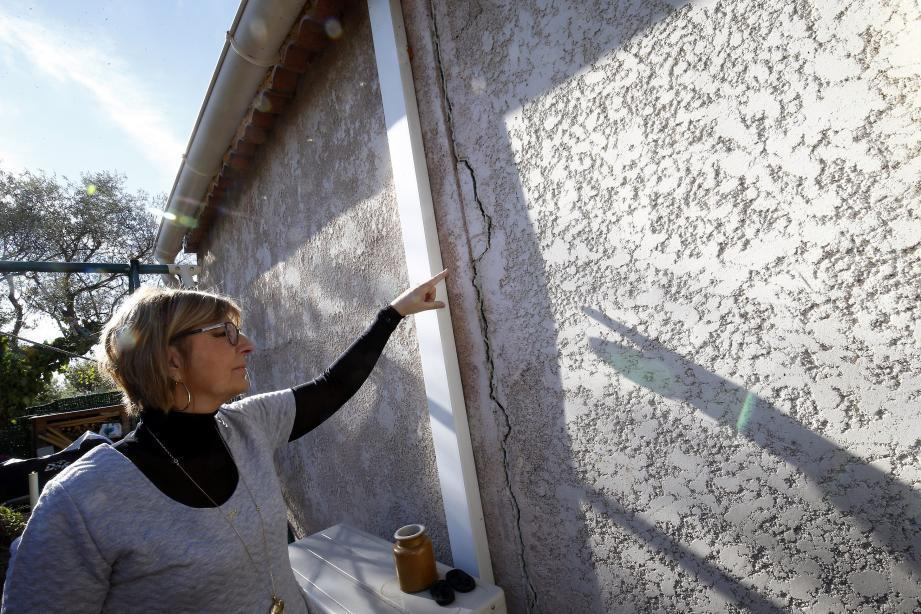crack: (428, 0, 537, 614)
